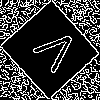V: (25, 25, 82, 81)
